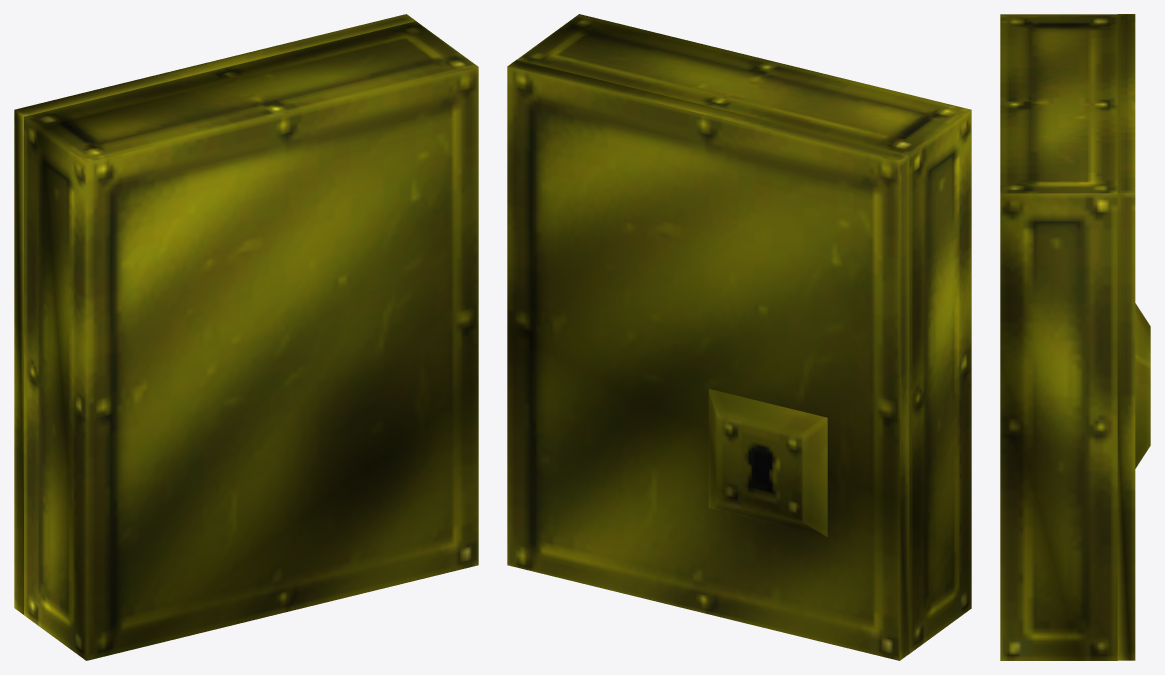
File: INST_SWORDLIGHT_LOCKBOX_GOLD.fbx
The picture shows the model from 3 angles, left to right: view 1: azimuth 30°, elevation 25°; view 2: azimuth 150°, elevation 25°; view 3: azimuth 270°, elevation 25°; orthographic projection. The views are drawn at different scales.
Parts seen in each view (by area): view 1: INST_SWORDLIGHT_LOCKBOX_GOLD; view 2: INST_SWORDLIGHT_LOCKBOX_GOLD; view 3: INST_SWORDLIGHT_LOCKBOX_GOLD.
Boxes of the visible parts, box(x1,y1,x2,y2) form: INST_SWORDLIGHT_LOCKBOX_GOLD: box(14, 14, 478, 660); INST_SWORDLIGHT_LOCKBOX_GOLD: box(507, 14, 971, 660); INST_SWORDLIGHT_LOCKBOX_GOLD: box(1000, 14, 1150, 660).
Bounding box in the file's own units: 7001 × 8503 × 2476.
3 materials, 3 textured.
